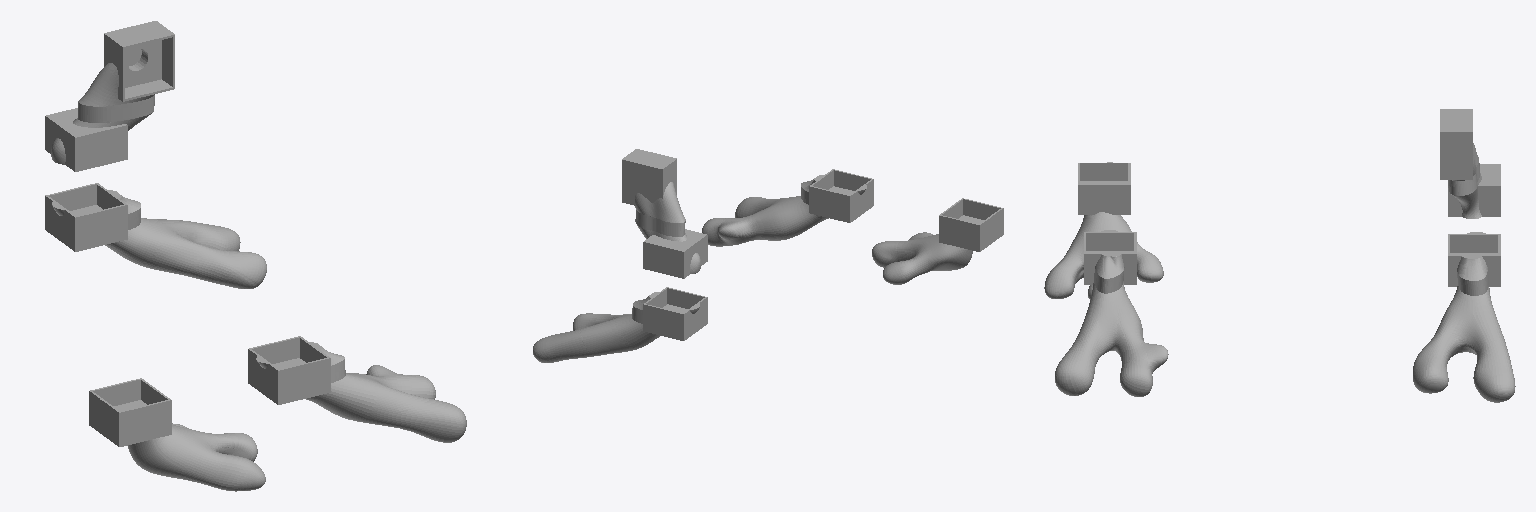
The robot description file, URDF, robot "FrogBot3_top-FrogBot3-y-3_bottom-FrogBot3-y-3":
<?xml version="1.0" ?>
<robot name="FrogBot3_top-FrogBot3-y-3_bottom-FrogBot3-y-3">

<material name="pla_5_percent_infill">
  <color rgba="0.700 0.700 0.700 1.000"/>
</material>

<link name="base_link">
  <inertial>
    <origin xyz="0 0 0" rpy="0 0 0"/>
    <mass value="1.5419899792307459"/>
    <inertia ixx="0.0054836076661745285" iyy="0.013703915460827342" izz="0.013742849788882953" ixy="5.961000823851627e-05" iyz="4.9944941207841843e-05" ixz="-0.0023657822822012154"/>
  </inertial>
  <visual>
    <origin xyz="0 0 0" rpy="0 0 0"/>
    <geometry>
      <mesh filename="simple_meshes/base_link.stl" scale="0.001 0.001 0.001"/>
    </geometry>
    <material name="pla_5_percent_infill"/>
  </visual>
  <collision>
    <origin xyz="0 0 0" rpy="0 0 0"/>
    <geometry>
      <mesh filename="simple_meshes/base_link.stl" scale="0.001 0.001 0.001"/>
    </geometry>
  </collision>
</link>

<link name="body_1_0_1">
  <inertial>
    <origin xyz="-0.065859 -0.113451 -0.001976" rpy="0 0 0"/>
    <mass value="0.042625750875155084"/>
    <inertia ixx="3.4641224399791035e-05" iyy="5.021167623384709e-05" izz="2.6491097934652156e-05" ixy="3.2619732955714792e-06" iyz="3.7394375823213426e-06" ixz="-1.4513714459056026e-05"/>
  </inertial>
  <visual>
    <origin xyz="-0.065859 -0.113451 -0.001976" rpy="0 0 0"/>
    <geometry>
      <mesh filename="simple_meshes/body_1_0_1.stl" scale="0.001 0.001 0.001"/>
    </geometry>
    <material name="pla_5_percent_infill"/>
  </visual>
  <collision>
    <origin xyz="-0.065859 -0.113451 -0.001976" rpy="0 0 0"/>
    <geometry>
      <mesh filename="simple_meshes/body_1_0_1.stl" scale="0.001 0.001 0.001"/>
    </geometry>
  </collision>
</link>

<link name="body_1_1_1">
  <inertial>
    <origin xyz="0.083929 -0.113451 -0.010696" rpy="0 0 0"/>
    <mass value="0.06452397709839196"/>
    <inertia ixx="5.155518546908627e-05" iyy="8.951750433276446e-05" izz="5.535845111843615e-05" ixy="6.458361727537014e-06" iyz="9.573194863686085e-06" ixz="-2.5043685811191078e-05"/>
  </inertial>
  <visual>
    <origin xyz="0.083929 -0.113451 -0.010696" rpy="0 0 0"/>
    <geometry>
      <mesh filename="simple_meshes/body_1_1_1.stl" scale="0.001 0.001 0.001"/>
    </geometry>
    <material name="pla_5_percent_infill"/>
  </visual>
  <collision>
    <origin xyz="0.083929 -0.113451 -0.010696" rpy="0 0 0"/>
    <geometry>
      <mesh filename="simple_meshes/body_1_1_1.stl" scale="0.001 0.001 0.001"/>
    </geometry>
  </collision>
</link>

<link name="body_1_2_1">
  <inertial>
    <origin xyz="-0.060736 0.113451 -0.005366" rpy="0 0 0"/>
    <mass value="0.04466471564648261"/>
    <inertia ixx="3.844714817747186e-05" iyy="5.306549351495947e-05" izz="2.6484493464122875e-05" ixy="-3.4974498559058194e-06" iyz="-5.419080466504252e-06" ixz="-1.529522760582896e-05"/>
  </inertial>
  <visual>
    <origin xyz="-0.060736 0.113451 -0.005366" rpy="0 0 0"/>
    <geometry>
      <mesh filename="simple_meshes/body_1_2_1.stl" scale="0.001 0.001 0.001"/>
    </geometry>
    <material name="pla_5_percent_infill"/>
  </visual>
  <collision>
    <origin xyz="-0.060736 0.113451 -0.005366" rpy="0 0 0"/>
    <geometry>
      <mesh filename="simple_meshes/body_1_2_1.stl" scale="0.001 0.001 0.001"/>
    </geometry>
  </collision>
</link>

<link name="body_1_3_1">
  <inertial>
    <origin xyz="0.093982 0.113451 -0.005431" rpy="0 0 0"/>
    <mass value="0.06510976023996005"/>
    <inertia ixx="4.713460964364275e-05" iyy="7.73154216382058e-05" izz="4.876239424349369e-05" ixy="-4.687275193743625e-06" iyz="-8.383384886503193e-06" ixz="-1.836097457693915e-05"/>
  </inertial>
  <visual>
    <origin xyz="0.093982 0.113451 -0.005431" rpy="0 0 0"/>
    <geometry>
      <mesh filename="simple_meshes/body_1_3_1.stl" scale="0.001 0.001 0.001"/>
    </geometry>
    <material name="pla_5_percent_infill"/>
  </visual>
  <collision>
    <origin xyz="0.093982 0.113451 -0.005431" rpy="0 0 0"/>
    <geometry>
      <mesh filename="simple_meshes/body_1_3_1.stl" scale="0.001 0.001 0.001"/>
    </geometry>
  </collision>
</link>

<link name="body_2_0_1">
  <inertial>
    <origin xyz="-0.026166 -0.164707 0.097895" rpy="0 0 0"/>
    <mass value="0.08399648447663655"/>
    <inertia ixx="7.263491335863376e-05" iyy="0.00019832664381089085" izz="0.00019801361775360644" ixy="4.3467019951357565e-06" iyz="-3.485235118188927e-06" ixz="6.747762010143529e-05"/>
  </inertial>
  <visual>
    <origin xyz="-0.026166 -0.164707 0.097895" rpy="0 0 0"/>
    <geometry>
      <mesh filename="simple_meshes/body_2_0_1.stl" scale="0.001 0.001 0.001"/>
    </geometry>
    <material name="pla_5_percent_infill"/>
  </visual>
  <collision>
    <origin xyz="-0.026166 -0.164707 0.097895" rpy="0 0 0"/>
    <geometry>
      <mesh filename="simple_meshes/body_2_0_1.stl" scale="0.001 0.001 0.001"/>
    </geometry>
  </collision>
</link>

<link name="body_2_1_1">
  <inertial>
    <origin xyz="0.127747 -0.174737 0.097895" rpy="0 0 0"/>
    <mass value="0.07285009259021573"/>
    <inertia ixx="5.193389730767401e-05" iyy="9.887195755299734e-05" izz="9.986799282611907e-05" ixy="-9.324094815585729e-06" iyz="3.306540004667513e-06" ixz="3.4712907666732684e-05"/>
  </inertial>
  <visual>
    <origin xyz="0.127747 -0.174737 0.097895" rpy="0 0 0"/>
    <geometry>
      <mesh filename="simple_meshes/body_2_1_1.stl" scale="0.001 0.001 0.001"/>
    </geometry>
    <material name="pla_5_percent_infill"/>
  </visual>
  <collision>
    <origin xyz="0.127747 -0.174737 0.097895" rpy="0 0 0"/>
    <geometry>
      <mesh filename="simple_meshes/body_2_1_1.stl" scale="0.001 0.001 0.001"/>
    </geometry>
  </collision>
</link>

<link name="body_2_2_1">
  <inertial>
    <origin xyz="-0.021708 0.167525 0.097895" rpy="0 0 0"/>
    <mass value="0.08411063140421357"/>
    <inertia ixx="7.1988506724973e-05" iyy="0.00019592412323586085" izz="0.00019558216591522137" ixy="1.8047557980023065e-06" iyz="-1.1835661260554096e-06" ixz="6.643863381459373e-05"/>
  </inertial>
  <visual>
    <origin xyz="-0.021708 0.167525 0.097895" rpy="0 0 0"/>
    <geometry>
      <mesh filename="simple_meshes/body_2_2_1.stl" scale="0.001 0.001 0.001"/>
    </geometry>
    <material name="pla_5_percent_infill"/>
  </visual>
  <collision>
    <origin xyz="-0.021708 0.167525 0.097895" rpy="0 0 0"/>
    <geometry>
      <mesh filename="simple_meshes/body_2_2_1.stl" scale="0.001 0.001 0.001"/>
    </geometry>
  </collision>
</link>

<link name="body_2_3_1">
  <inertial>
    <origin xyz="0.128136 0.172985 0.097895" rpy="0 0 0"/>
    <mass value="0.07039286684904554"/>
    <inertia ixx="5.404241570171071e-05" iyy="9.308995673441931e-05" izz="9.872996845404882e-05" ixy="7.5303742060890255e-06" iyz="-4.414948381533789e-06" ixz="3.195672940100214e-05"/>
  </inertial>
  <visual>
    <origin xyz="0.128136 0.172985 0.097895" rpy="0 0 0"/>
    <geometry>
      <mesh filename="simple_meshes/body_2_3_1.stl" scale="0.001 0.001 0.001"/>
    </geometry>
    <material name="pla_5_percent_infill"/>
  </visual>
  <collision>
    <origin xyz="0.128136 0.172985 0.097895" rpy="0 0 0"/>
    <geometry>
      <mesh filename="simple_meshes/body_2_3_1.stl" scale="0.001 0.001 0.001"/>
    </geometry>
  </collision>
</link>

<joint name="joint_1_0" type="revolute">
  <origin xyz="0.065859 0.113451 0.001976" rpy="0 0 0"/>
  <parent link="base_link"/>
  <child link="body_1_0_1"/>
  <axis xyz="0.0 0.0 -1.0"/>
  <limit upper="1.2" lower="-1.2" effort="3.8" velocity="5.4"/>
</joint>
<transmission name="joint_1_0_tran">
  <type>transmission_interface/SimpleTransmission</type>
  <joint name="joint_1_0">
    <hardwareInterface>PositionJointInterface</hardwareInterface>
  </joint>
  <actuator name="joint_1_0_actr">
    <hardwareInterface>PositionJointInterface</hardwareInterface>
    <mechanicalReduction>1</mechanicalReduction>
  </actuator>
</transmission>

<joint name="joint_1_1" type="revolute">
  <origin xyz="-0.083929 0.113451 0.010696" rpy="0 0 0"/>
  <parent link="base_link"/>
  <child link="body_1_1_1"/>
  <axis xyz="0.0 0.0 -1.0"/>
  <limit upper="1.2" lower="-1.2" effort="3.8" velocity="5.4"/>
</joint>
<transmission name="joint_1_1_tran">
  <type>transmission_interface/SimpleTransmission</type>
  <joint name="joint_1_1">
    <hardwareInterface>PositionJointInterface</hardwareInterface>
  </joint>
  <actuator name="joint_1_1_actr">
    <hardwareInterface>PositionJointInterface</hardwareInterface>
    <mechanicalReduction>1</mechanicalReduction>
  </actuator>
</transmission>

<joint name="joint_1_2" type="revolute">
  <origin xyz="0.060736 -0.113451 0.005366" rpy="0 0 0"/>
  <parent link="base_link"/>
  <child link="body_1_2_1"/>
  <axis xyz="0.0 0.0 -1.0"/>
  <limit upper="1.2" lower="-1.2" effort="3.8" velocity="5.4"/>
</joint>
<transmission name="joint_1_2_tran">
  <type>transmission_interface/SimpleTransmission</type>
  <joint name="joint_1_2">
    <hardwareInterface>PositionJointInterface</hardwareInterface>
  </joint>
  <actuator name="joint_1_2_actr">
    <hardwareInterface>PositionJointInterface</hardwareInterface>
    <mechanicalReduction>1</mechanicalReduction>
  </actuator>
</transmission>

<joint name="joint_1_3" type="revolute">
  <origin xyz="-0.093982 -0.113451 0.005431" rpy="0 0 0"/>
  <parent link="base_link"/>
  <child link="body_1_3_1"/>
  <axis xyz="0.0 0.0 -1.0"/>
  <limit upper="1.2" lower="-1.2" effort="3.8" velocity="5.4"/>
</joint>
<transmission name="joint_1_3_tran">
  <type>transmission_interface/SimpleTransmission</type>
  <joint name="joint_1_3">
    <hardwareInterface>PositionJointInterface</hardwareInterface>
  </joint>
  <actuator name="joint_1_3_actr">
    <hardwareInterface>PositionJointInterface</hardwareInterface>
    <mechanicalReduction>1</mechanicalReduction>
  </actuator>
</transmission>

<joint name="joint_2_0" type="revolute">
  <origin xyz="-0.039693 0.051256 -0.099871" rpy="0 0 0"/>
  <parent link="body_1_0_1"/>
  <child link="body_2_0_1"/>
  <axis xyz="0.0 1.0 0.0"/>
  <limit upper="1.2" lower="-1.2" effort="3.8" velocity="5.4"/>
</joint>
<transmission name="joint_2_0_tran">
  <type>transmission_interface/SimpleTransmission</type>
  <joint name="joint_2_0">
    <hardwareInterface>PositionJointInterface</hardwareInterface>
  </joint>
  <actuator name="joint_2_0_actr">
    <hardwareInterface>PositionJointInterface</hardwareInterface>
    <mechanicalReduction>1</mechanicalReduction>
  </actuator>
</transmission>

<joint name="joint_2_1" type="revolute">
  <origin xyz="-0.043818 0.061286 -0.108591" rpy="0 0 0"/>
  <parent link="body_1_1_1"/>
  <child link="body_2_1_1"/>
  <axis xyz="0.0 1.0 0.0"/>
  <limit upper="1.2" lower="-1.2" effort="3.8" velocity="5.4"/>
</joint>
<transmission name="joint_2_1_tran">
  <type>transmission_interface/SimpleTransmission</type>
  <joint name="joint_2_1">
    <hardwareInterface>PositionJointInterface</hardwareInterface>
  </joint>
  <actuator name="joint_2_1_actr">
    <hardwareInterface>PositionJointInterface</hardwareInterface>
    <mechanicalReduction>1</mechanicalReduction>
  </actuator>
</transmission>

<joint name="joint_2_2" type="revolute">
  <origin xyz="-0.039028 -0.054074 -0.103261" rpy="0 0 0"/>
  <parent link="body_1_2_1"/>
  <child link="body_2_2_1"/>
  <axis xyz="0.0 1.0 0.0"/>
  <limit upper="1.2" lower="-1.2" effort="3.8" velocity="5.4"/>
</joint>
<transmission name="joint_2_2_tran">
  <type>transmission_interface/SimpleTransmission</type>
  <joint name="joint_2_2">
    <hardwareInterface>PositionJointInterface</hardwareInterface>
  </joint>
  <actuator name="joint_2_2_actr">
    <hardwareInterface>PositionJointInterface</hardwareInterface>
    <mechanicalReduction>1</mechanicalReduction>
  </actuator>
</transmission>

<joint name="joint_2_3" type="revolute">
  <origin xyz="-0.034154 -0.059534 -0.103326" rpy="0 0 0"/>
  <parent link="body_1_3_1"/>
  <child link="body_2_3_1"/>
  <axis xyz="0.0 1.0 0.0"/>
  <limit upper="1.2" lower="-1.2" effort="3.8" velocity="5.4"/>
</joint>
<transmission name="joint_2_3_tran">
  <type>transmission_interface/SimpleTransmission</type>
  <joint name="joint_2_3">
    <hardwareInterface>PositionJointInterface</hardwareInterface>
  </joint>
  <actuator name="joint_2_3_actr">
    <hardwareInterface>PositionJointInterface</hardwareInterface>
    <mechanicalReduction>1</mechanicalReduction>
  </actuator>
</transmission>

</robot>

--- Facts derived from the render (not from the file) ---
Views: 3 orthographic renders of the robot side by side, from view 1: azimuth 30°, elevation 25°; view 2: azimuth 150°, elevation 25°; view 3: azimuth 270°, elevation 25°.
Robot: FrogBot3_top-FrogBot3-y-3_bottom-FrogBot3-y-3 — 9 links, 8 joints (8 revolute); root link base_link; default pose: every joint at zero.
Visible links, largest first — view 1: body_2_0_1, body_2_2_1, body_1_0_1, body_2_3_1; view 2: body_2_2_1, body_2_0_1, body_1_0_1, body_2_3_1; view 3: body_2_2_1, body_2_0_1, body_2_3_1, body_1_0_1.
Link boxes in pixels (<box>): body_2_0_1: <box>45,183,266,288</box>; body_2_2_1: <box>248,336,466,442</box>; body_1_0_1: <box>45,21,174,171</box>; body_2_3_1: <box>89,378,265,491</box>; body_2_2_1: <box>702,169,873,246</box>; body_2_0_1: <box>533,287,707,362</box>; body_1_0_1: <box>622,149,707,278</box>; body_2_3_1: <box>872,198,1003,284</box>; body_2_2_1: <box>1055,230,1168,396</box>; body_2_0_1: <box>1413,232,1515,402</box>; body_2_3_1: <box>1044,162,1163,299</box>; body_1_0_1: <box>1440,109,1500,218</box>.
Bounding box of the posed robot: 0.3322 × 0.43 × 0.2375 m (x, y, z).
Meshes: 9 distinct files referenced, 4 mesh visuals loaded (4 binary STL); not drawn: 5 (reference not matched to a file when rendering).